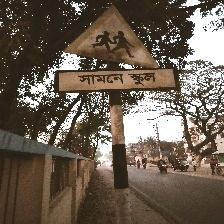School-in-front: (56, 3, 176, 96)
